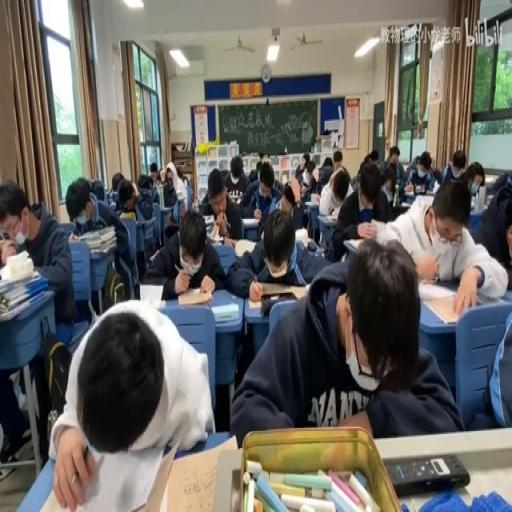calculator: (419, 282, 483, 326), (250, 282, 307, 307), (74, 223, 116, 255), (176, 287, 213, 306), (210, 300, 238, 322), (138, 283, 164, 304), (234, 236, 256, 256), (293, 224, 309, 248), (207, 223, 225, 243), (343, 235, 366, 250), (138, 215, 156, 226), (241, 214, 259, 224), (222, 235, 237, 246), (322, 212, 338, 222), (120, 209, 136, 219), (202, 213, 214, 225), (226, 196, 242, 205), (305, 198, 320, 206), (414, 184, 426, 194), (423, 189, 435, 196), (175, 191, 184, 199), (108, 198, 115, 206)
paper: (232, 240, 458, 444), (47, 298, 214, 512), (0, 177, 78, 462), (142, 206, 230, 299), (331, 160, 392, 258), (469, 298, 511, 430), (470, 175, 510, 282), (241, 159, 281, 232), (118, 176, 155, 236), (403, 148, 436, 192), (222, 154, 250, 202), (380, 145, 406, 193), (148, 165, 178, 206), (441, 150, 467, 186), (461, 162, 485, 199), (350, 154, 373, 188), (282, 178, 301, 209), (490, 171, 512, 195), (110, 172, 126, 202), (293, 154, 309, 184), (89, 176, 105, 202), (318, 164, 334, 189), (333, 179, 346, 202), (307, 176, 321, 194), (331, 151, 342, 172), (430, 166, 441, 184), (137, 174, 150, 189), (366, 150, 378, 164), (248, 168, 258, 183), (322, 156, 332, 170), (148, 162, 158, 175), (260, 151, 270, 162), (132, 180, 138, 198), (256, 160, 262, 174), (413, 155, 419, 168), (390, 162, 396, 175), (429, 155, 435, 168), (182, 176, 189, 186)
person: (386, 452, 470, 494)
